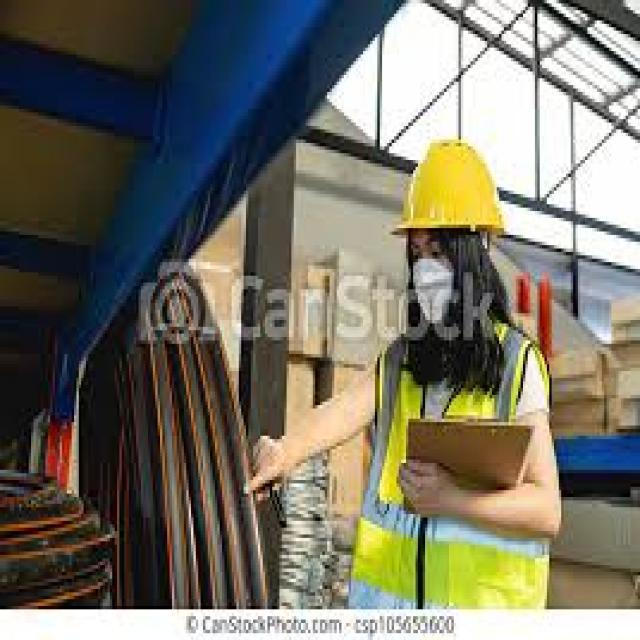Reflective-Jacket: (339, 317, 566, 616)
Safety-Helmet: (382, 123, 525, 262)
